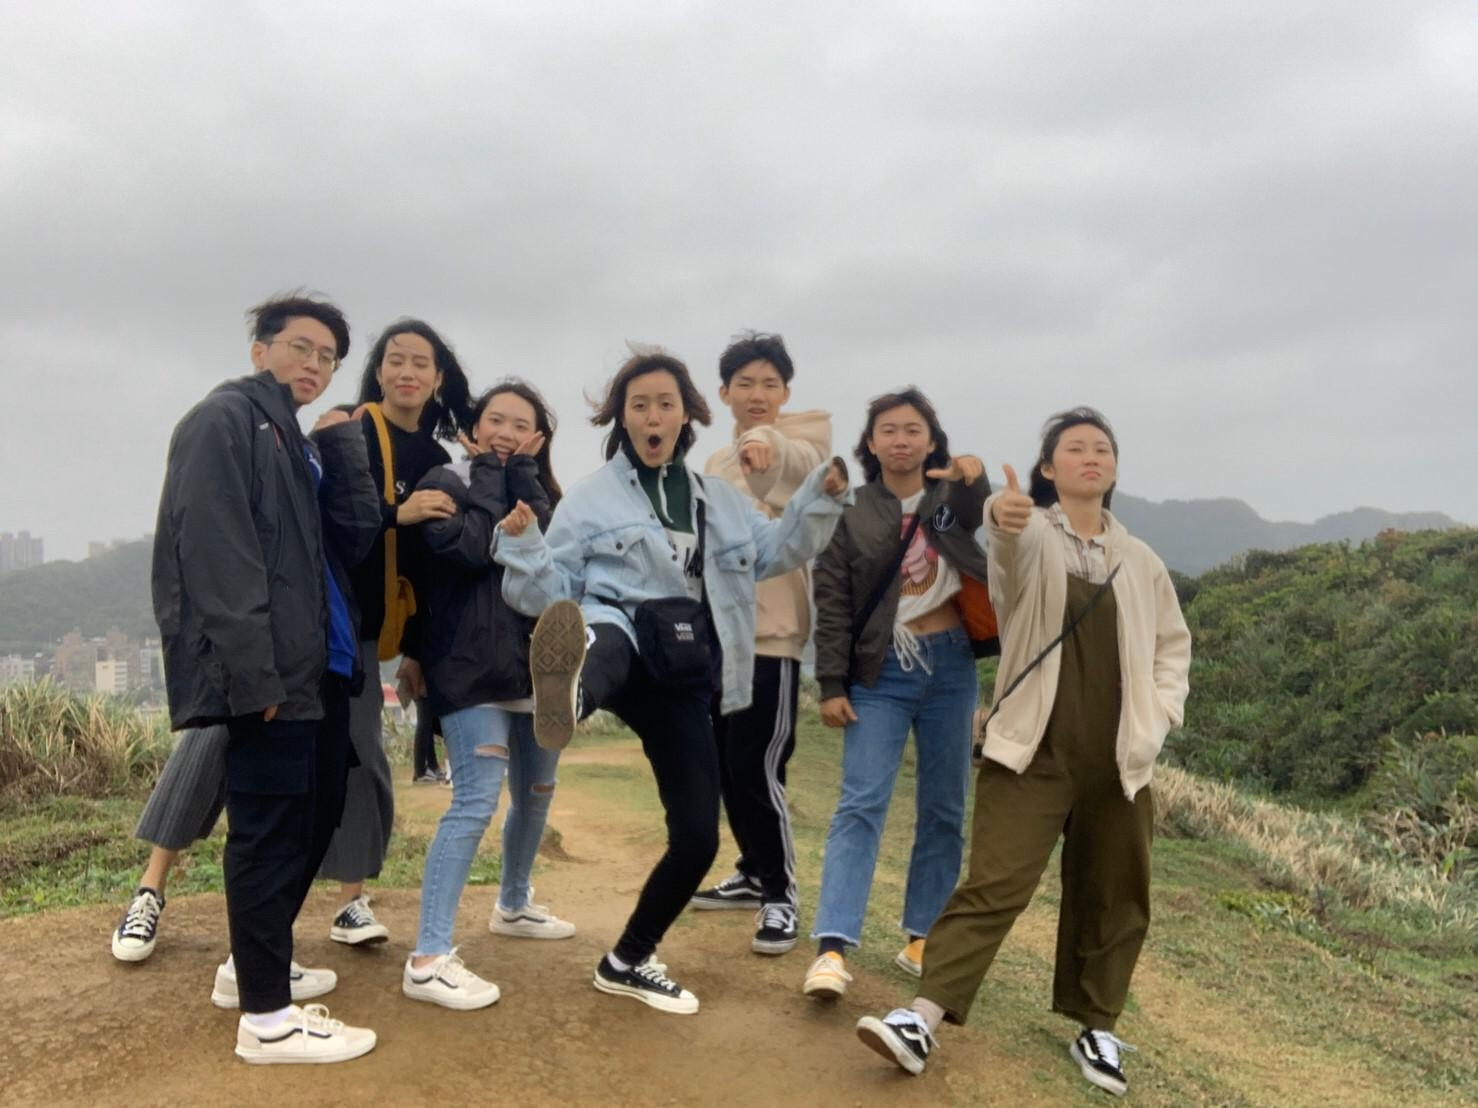people: (167, 284, 363, 1042), (940, 415, 1150, 1096), (254, 323, 446, 950), (413, 382, 577, 1000), (575, 350, 706, 1017), (827, 390, 971, 996), (688, 338, 806, 957)
